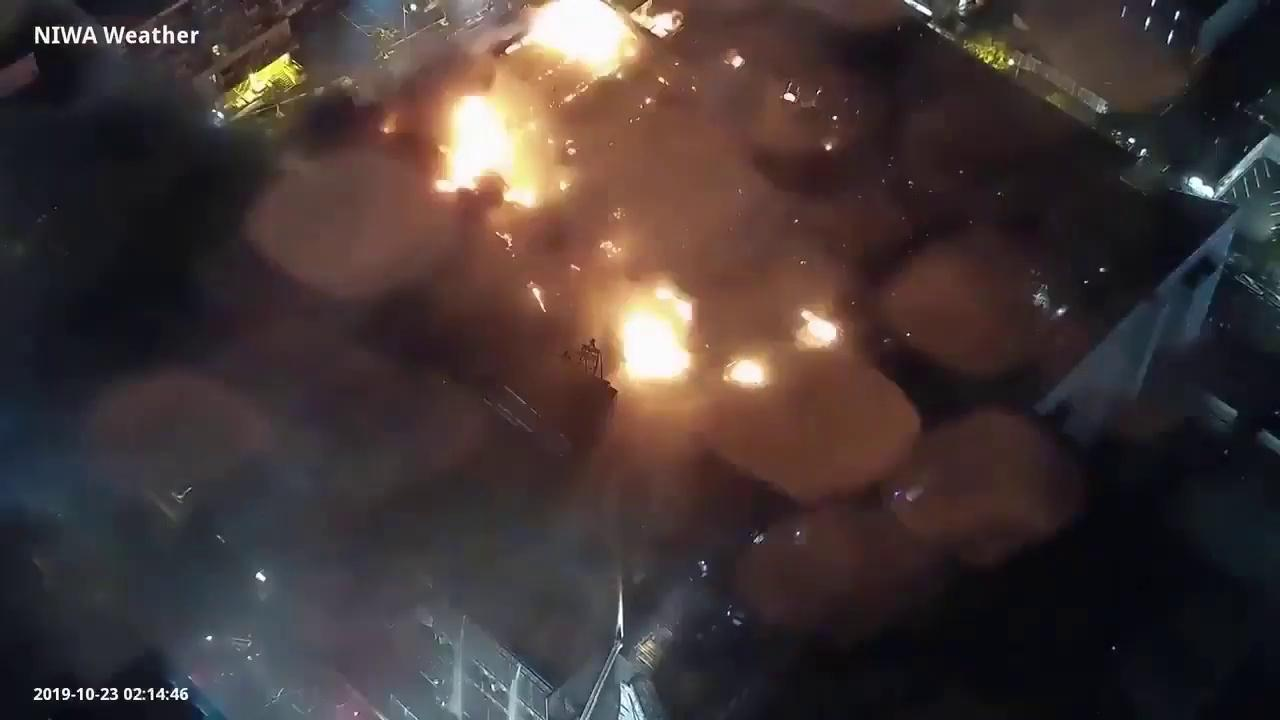Fire: (500, 4, 683, 84), (434, 91, 556, 210), (602, 274, 700, 388), (801, 307, 838, 349), (725, 355, 771, 387)
